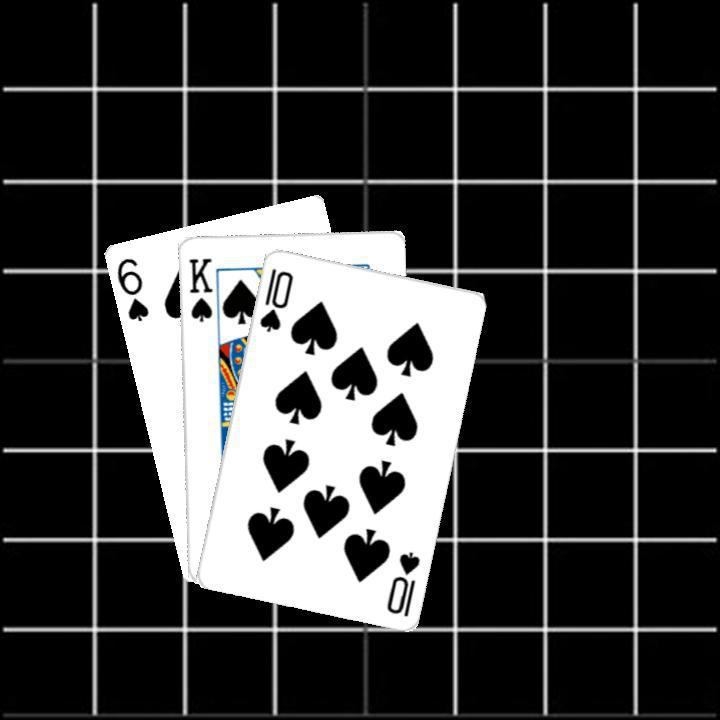10: (381, 546, 422, 618), (254, 263, 295, 334)
6: (112, 253, 150, 324)
K: (184, 253, 214, 324)
